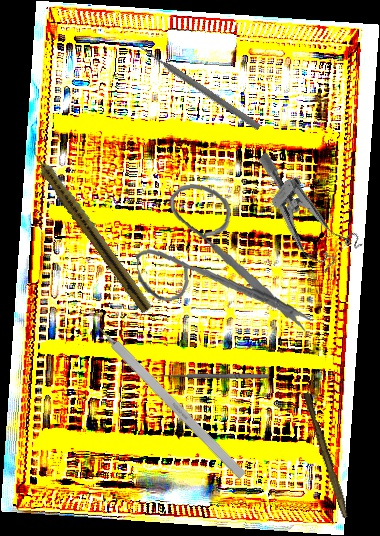Handpiece: (22, 140, 157, 315)
Hook Surgical: (81, 309, 247, 480), (149, 372, 270, 384)
Iris Scissors: (130, 174, 314, 348)
Pusher: (133, 40, 263, 132)
Scalpel Handle: (300, 391, 353, 519)
Speculum: (228, 151, 372, 281)
